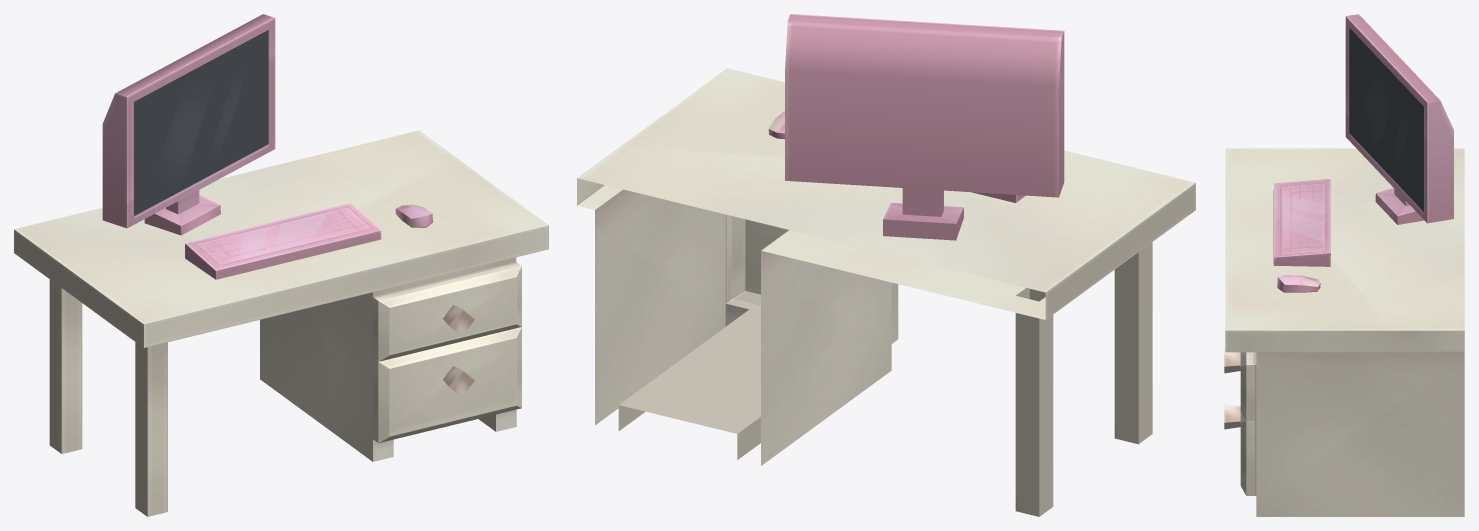
Rendered from BedTumb 2.fbx.
The picture shows the model from 3 angles, left to right: view 1: azimuth 30°, elevation 25°; view 2: azimuth 150°, elevation 25°; view 3: azimuth 270°, elevation 25°; orthographic projection. The views are drawn at different scales.
Visible parts, largest first — view 1: BedTumb 2; view 2: BedTumb 2; view 3: BedTumb 2.
Part boxes in pixels (left/top/right/bottom): BedTumb 2: left=14, top=14, right=548, bottom=516; BedTumb 2: left=577, top=14, right=1195, bottom=516; BedTumb 2: left=1224, top=14, right=1464, bottom=516.
Bounding box in the file's own units: 1.98 × 1.76 × 1.11.
1 material, 1 textured.
